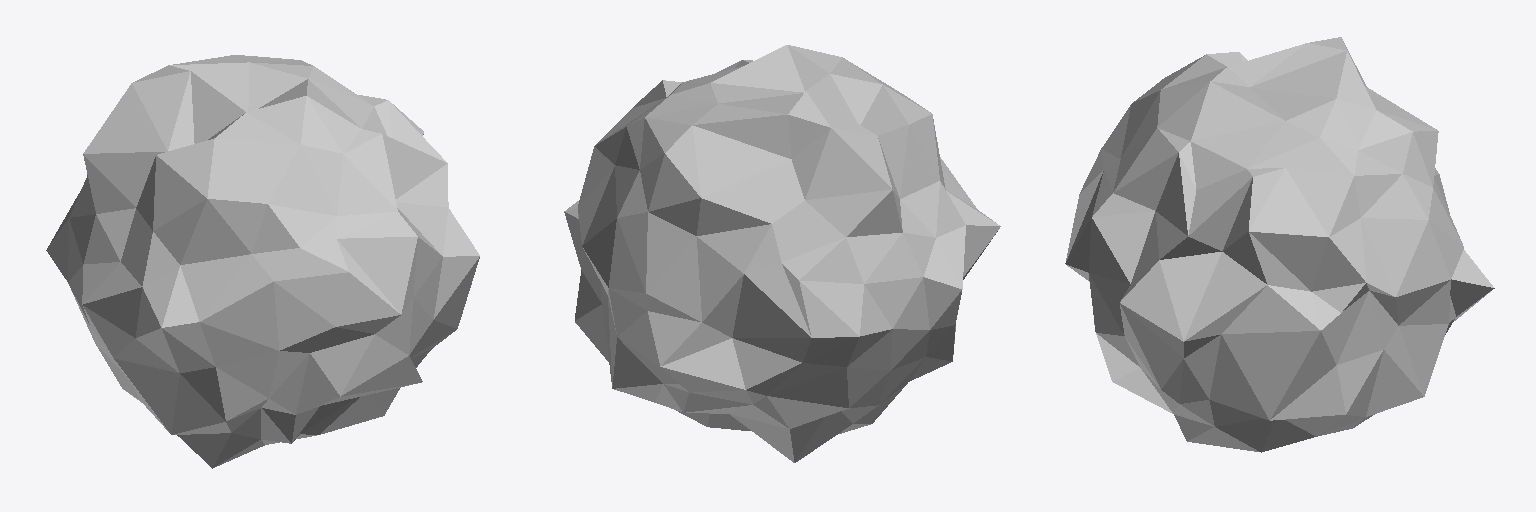
The model's file is fire_000031.obj.
3 views of the same model, side by side, from view 1: azimuth 30°, elevation 25°; view 2: azimuth 150°, elevation 25°; view 3: azimuth 270°, elevation 25° (orthographic).
Visible parts, largest first — view 1: Icosphere; view 2: Icosphere; view 3: Icosphere.
Boxes of the visible parts, x1=… form: Icosphere: x1=46, y1=55, x2=479, y2=468; Icosphere: x1=564, y1=45, x2=1000, y2=462; Icosphere: x1=1065, y1=37, x2=1494, y2=452.
Size of the model in its own units: 1.19 by 1.16 by 1.2.